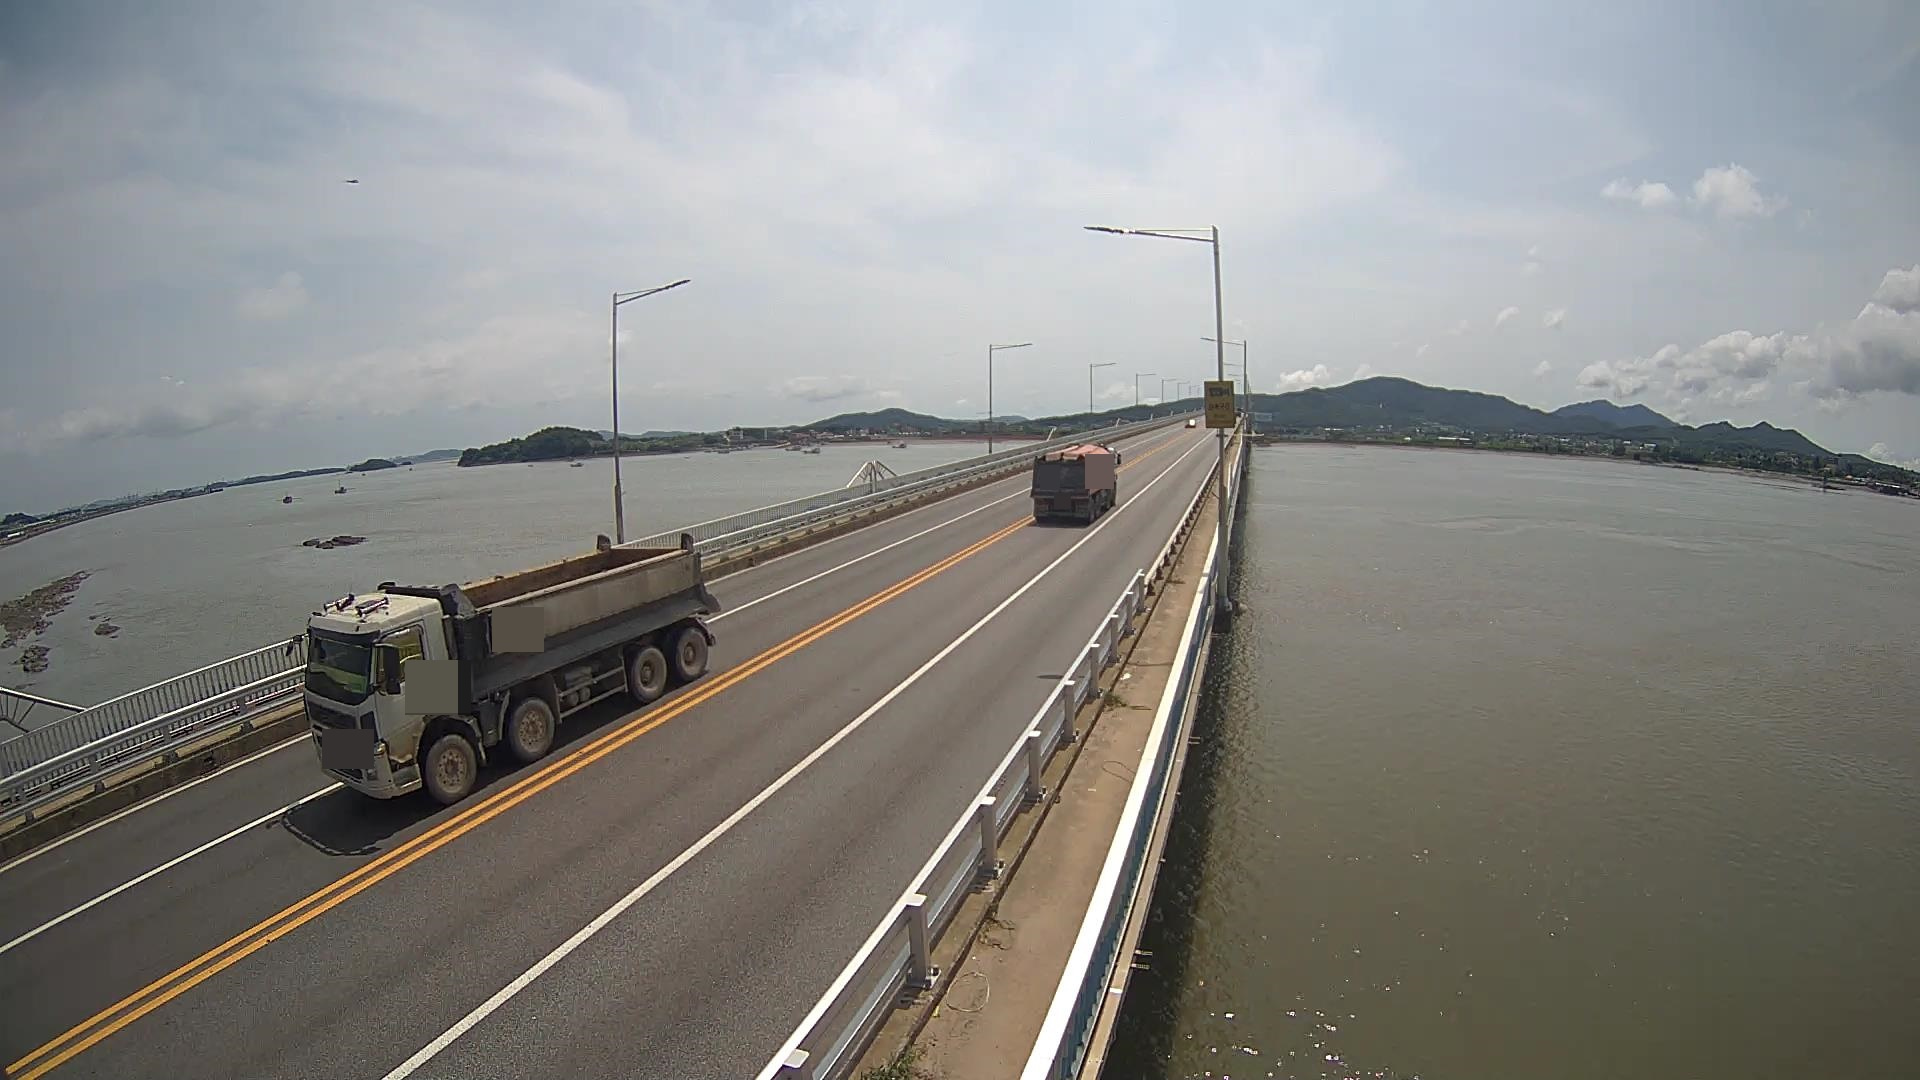정상차량: (284, 531, 721, 806)
